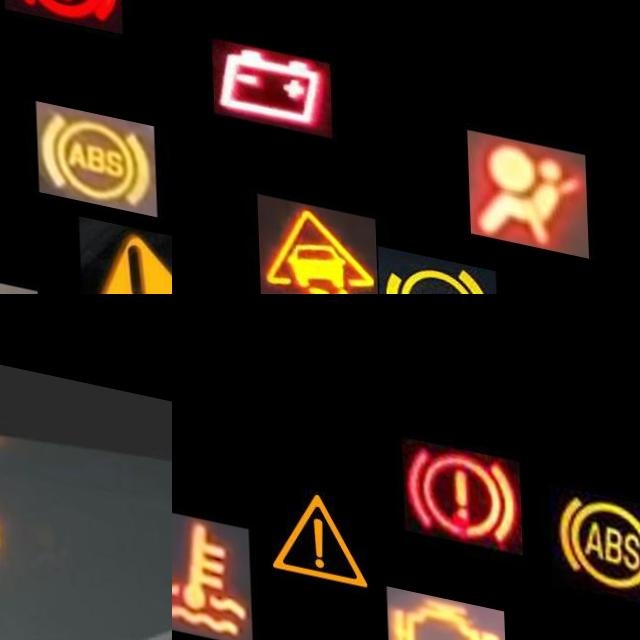Central Warning lamp: (256, 458, 378, 596), (76, 193, 172, 294)
Engine cooling system: (172, 503, 250, 640)
